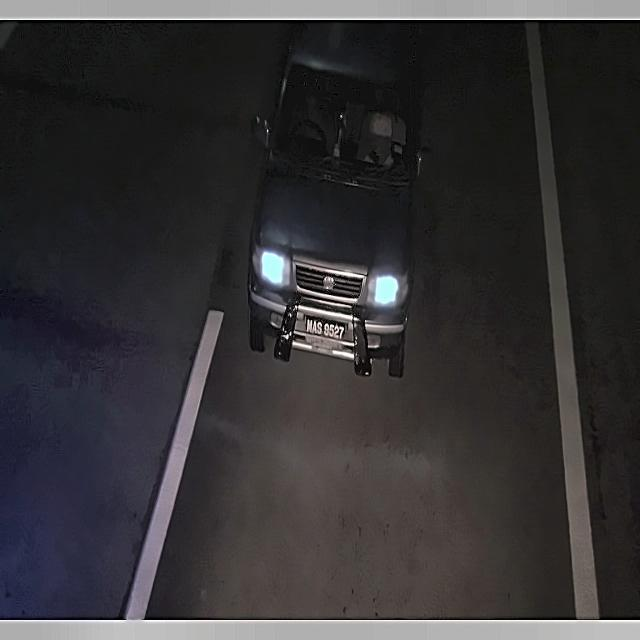car: (300, 311, 352, 349)
